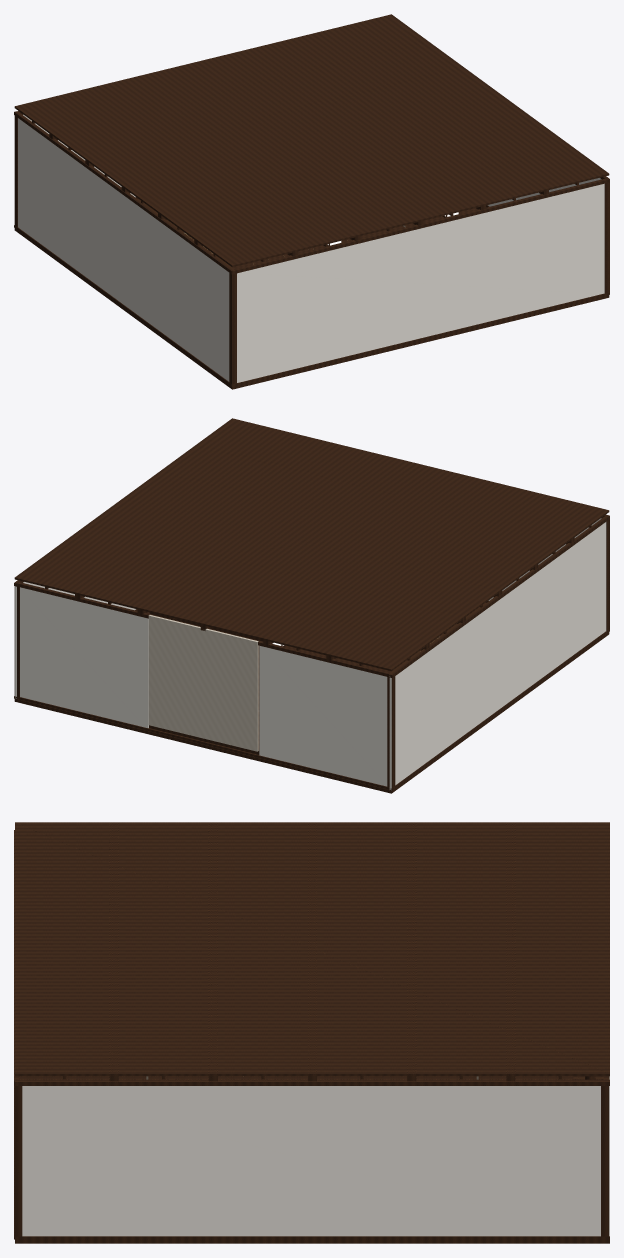
File: dojo.glb
3 views of the same model, one above another, from view 1: azimuth 30°, elevation 25°; view 2: azimuth 150°, elevation 25°; view 3: azimuth 270°, elevation 25° (orthographic). The views are drawn at different scales.
Visible parts, largest first — view 1: Ceiling_Main_Panel, Wall_South, Wall_West, Floor_Hinoki, Track_Ceil_Y_-8.95, Track_Ceil_X_-8.95, Ceiling_Beam_Y_-6.0, Track_Floor_Y_-8.95, Corner_Pillar_-8.9_-8.9, Ceiling_Beam_Y_-3.0, Track_Floor_X_-8.95, Corner_Pillar_8.9_-8.9 (+1 smaller); view 2: Ceiling_Main_Panel, Wall_West, Wall_North_L, Wall_North_R, Kamiza_BackWall, Floor_Hinoki, Track_Ceil_Y_8.9, Track_Ceil_X_-8.95, Ceiling_Beam_Y_6.0, Track_Floor_Y_8.9, Ceiling_Beam_Y_3.0, Corner_Pillar_-8.9_8.85 (+1 smaller); view 3: Ceiling_Main_Panel, Wall_East, Floor_Hinoki, Track_Ceil_X_8.95, Track_Floor_X_8.95, Ceiling_Beam_Y_6.0, Ceiling_Beam_Y_-3.0, Ceiling_Beam_Y_-6.0, Ceiling_Beam_Y_3.0, Ceiling_Beam_Y_0.0, Corner_Pillar_8.9_-8.9, Corner_Pillar_8.9_8.85.
Part boxes in pixels (x1,y1,x2,y2): Ceiling_Main_Panel: [14, 14, 609, 267]; Wall_South: [237, 183, 604, 382]; Wall_West: [18, 118, 229, 381]; Floor_Hinoki: [14, 199, 609, 389]; Track_Ceil_Y_-8.95: [232, 178, 609, 274]; Track_Ceil_X_-8.95: [14, 111, 234, 274]; Ceiling_Beam_Y_-6.0: [194, 146, 574, 246]; Track_Floor_Y_-8.95: [232, 292, 609, 386]; Corner_Pillar_-8.9_-8.9: [229, 272, 236, 386]; Ceiling_Beam_Y_-3.0: [158, 119, 537, 219]; Track_Floor_X_-8.95: [14, 225, 231, 386]; Corner_Pillar_8.9_-8.9: [604, 181, 609, 294]; Ceiling_Main_Panel: [14, 418, 609, 671]; Wall_West: [389, 522, 606, 790]; Wall_North_L: [259, 645, 387, 786]; Wall_North_R: [20, 587, 148, 728]; Kamiza_BackWall: [148, 615, 258, 751]; Floor_Hinoki: [14, 602, 609, 793]; Track_Ceil_Y_8.9: [17, 582, 392, 677]; Track_Ceil_X_-8.95: [389, 515, 609, 678]; Ceiling_Beam_Y_6.0: [49, 550, 429, 650]; Track_Floor_Y_8.9: [17, 697, 388, 789]; Ceiling_Beam_Y_3.0: [86, 523, 465, 623]; Corner_Pillar_-8.9_8.85: [387, 676, 395, 788]; Ceiling_Main_Panel: [15, 822, 609, 1076]; Wall_East: [22, 1086, 609, 1236]; Floor_Hinoki: [15, 1076, 609, 1243]; Track_Ceil_X_8.95: [15, 1079, 609, 1085]; Track_Floor_X_8.95: [15, 1236, 609, 1239]; Ceiling_Beam_Y_6.0: [506, 822, 515, 1081]; Ceiling_Beam_Y_-3.0: [208, 822, 217, 1081]; Ceiling_Beam_Y_-6.0: [109, 822, 118, 1081]; Ceiling_Beam_Y_3.0: [407, 822, 416, 1081]; Ceiling_Beam_Y_0.0: [308, 822, 316, 1081]; Corner_Pillar_8.9_-8.9: [14, 1083, 22, 1239]; Corner_Pillar_8.9_8.85: [601, 1086, 608, 1236].
Bounding box in the file's own units: 18.06 × 5.66 × 18.03.
Materials: 12 (6 with a texture image).
